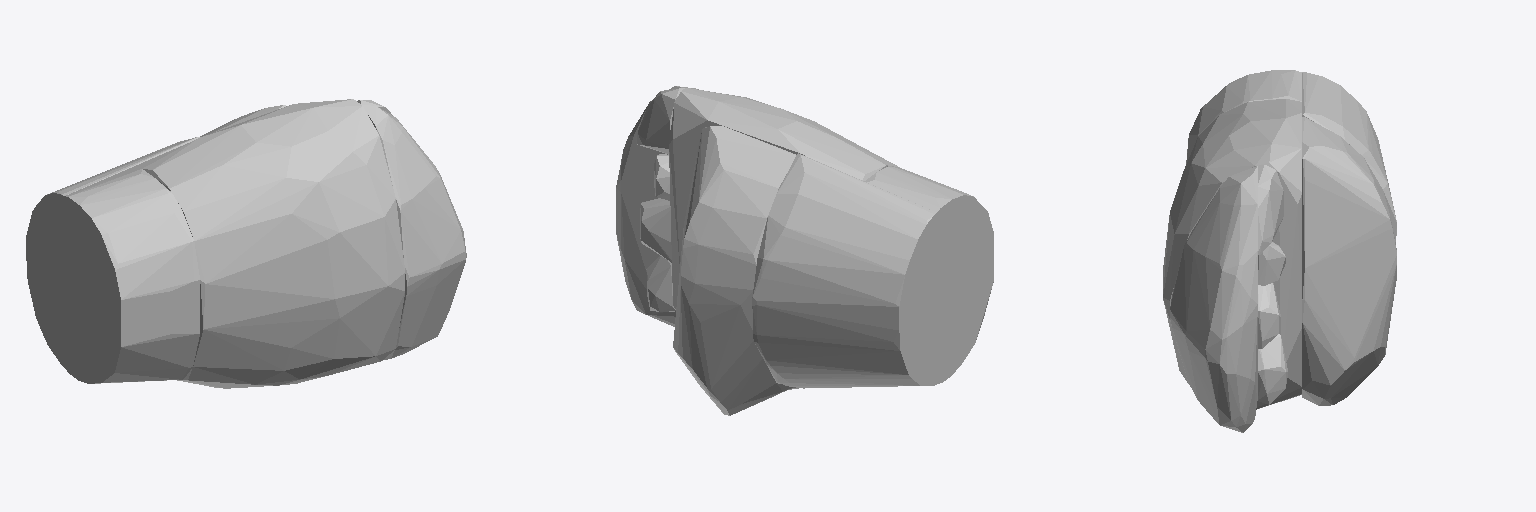
File: LWristYaw_vhacd.obj
The picture shows the model from 3 angles: view 1: azimuth 30°, elevation 25°; view 2: azimuth 150°, elevation 25°; view 3: azimuth 270°, elevation 25°; orthographic projection.
Parts seen in each view (by area): view 1: convex_3, convex_2, convex_4, convex_0; view 2: convex_0, convex_1, convex_2, convex_3, convex_4, convex_8, convex_6, convex_5, convex_7; view 3: convex_1, convex_4, convex_3, convex_0, convex_2, convex_8, convex_5, convex_6, convex_7.
Boxes of the visible parts, x1=… form: convex_3: x1=143, y1=99, x2=404, y2=388; convex_2: x1=64, y1=169, x2=199, y2=383; convex_4: x1=362, y1=105, x2=466, y2=360; convex_0: x1=26, y1=137, x2=199, y2=366; convex_0: x1=752, y1=153, x2=936, y2=388; convex_1: x1=673, y1=126, x2=795, y2=415; convex_2: x1=864, y1=166, x2=993, y2=383; convex_3: x1=669, y1=88, x2=899, y2=389; convex_4: x1=616, y1=86, x2=698, y2=326; convex_8: x1=636, y1=88, x2=684, y2=154; convex_6: x1=640, y1=198, x2=671, y2=262; convex_5: x1=646, y1=256, x2=675, y2=311; convex_7: x1=654, y1=154, x2=669, y2=200; convex_1: x1=1302, y1=117, x2=1396, y2=405; convex_4: x1=1170, y1=166, x2=1257, y2=432; convex_3: x1=1163, y1=99, x2=1301, y2=409; convex_0: x1=1302, y1=72, x2=1396, y2=241; convex_2: x1=1186, y1=70, x2=1301, y2=163; convex_8: x1=1258, y1=165, x2=1283, y2=254; convex_5: x1=1258, y1=334, x2=1287, y2=404; convex_6: x1=1258, y1=283, x2=1280, y2=348; convex_7: x1=1258, y1=242, x2=1285, y2=285.
Bounding box in the file's own units: 0.1231 × 0.0902 × 0.0692.